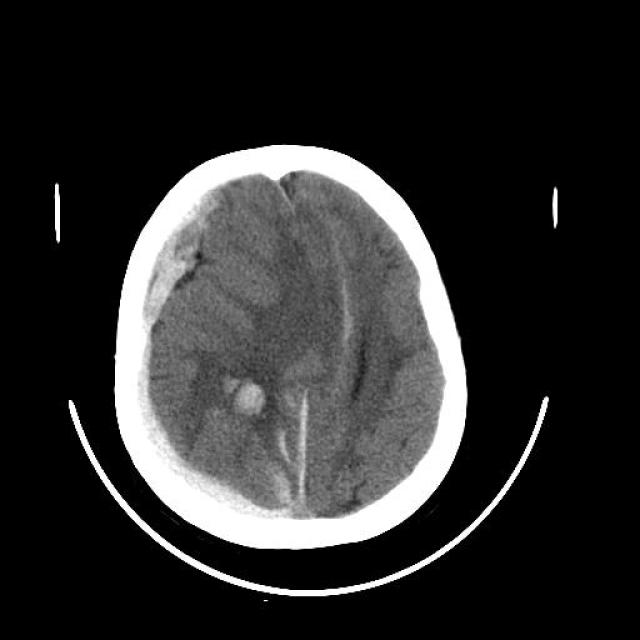Intraparenchymal: (208, 358, 288, 423)
Subarachnoid: (332, 275, 362, 376), (268, 428, 306, 478)
Subdural: (106, 179, 288, 541)
